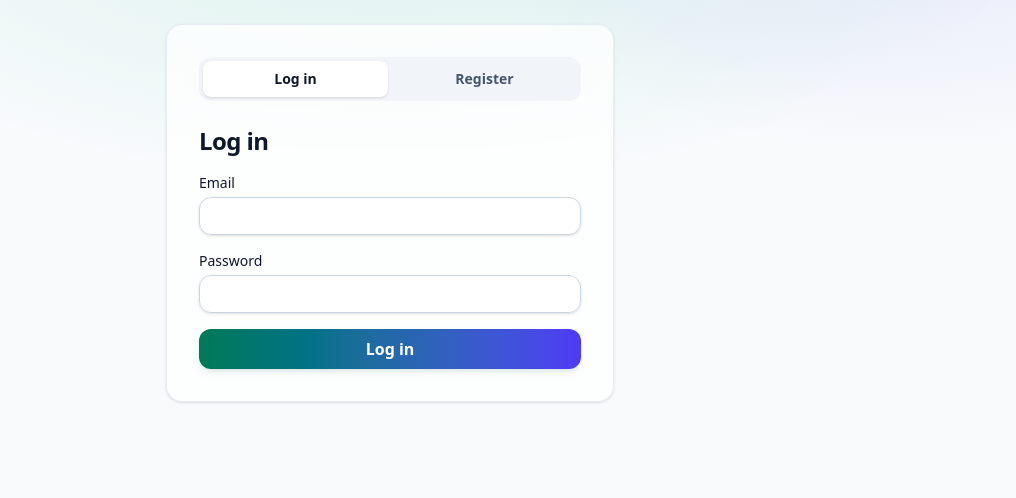
Test: login and register tabs switch the form and mark the selected tab
The image size is (1016, 498).
Expected: the field labelled "Display name" is not shown
Click the tab "Register" at (484,79), box [392, 61, 577, 97]
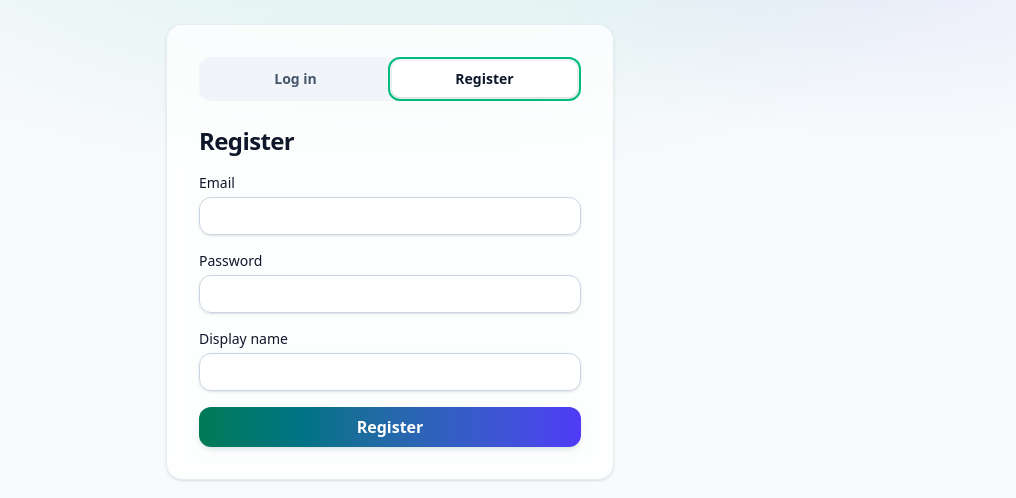
Now the field labelled "Display name" is shown, box [199, 353, 581, 391]
